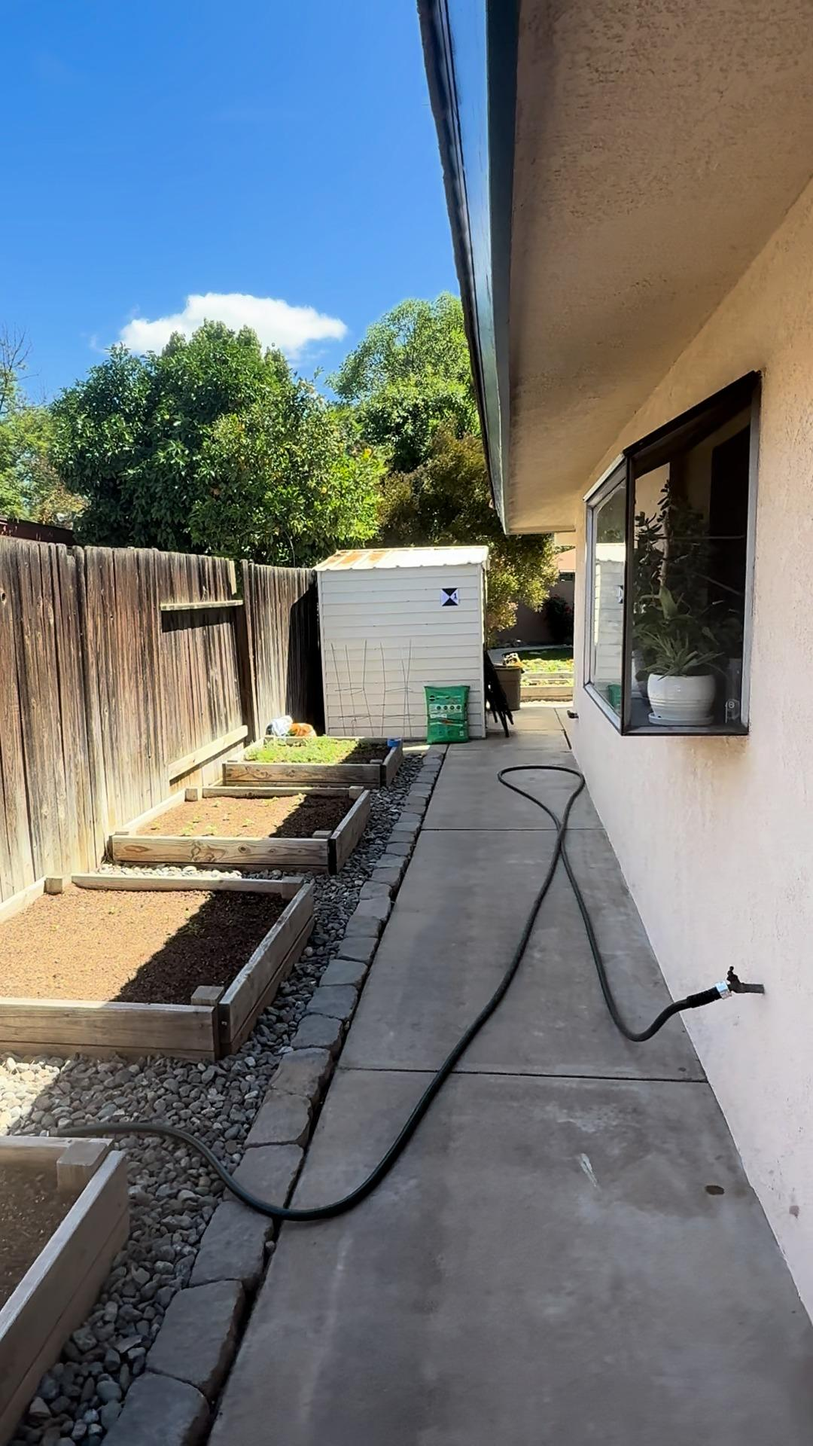target1: (440, 586, 461, 607)
